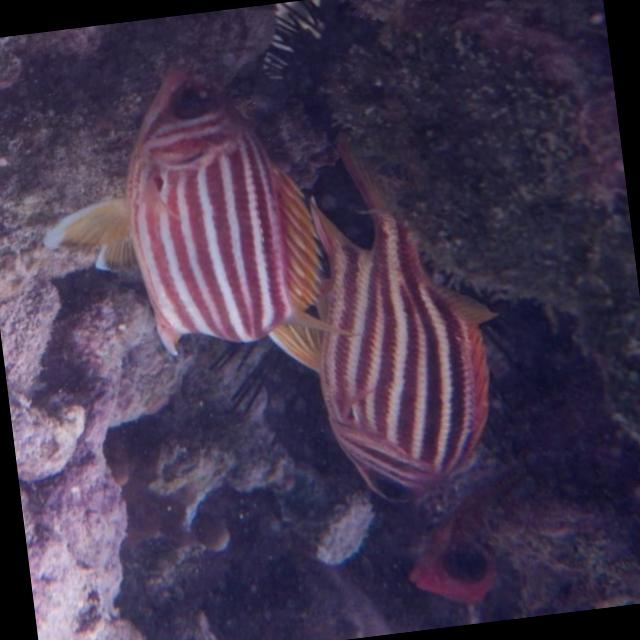Asker Baligi: (22, 45, 360, 386), (288, 209, 518, 522)
